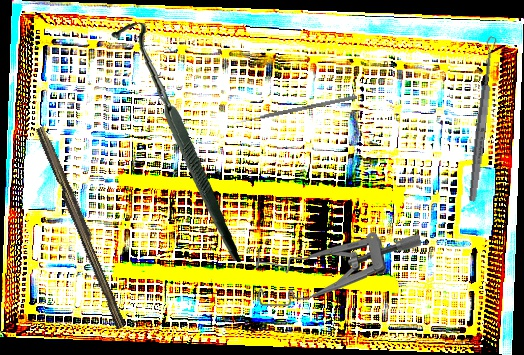Hook Surgical: (96, 21, 257, 262)
Pusher: (232, 94, 358, 126)
Scalpel Handle: (32, 124, 132, 330)
Speculum: (255, 231, 422, 308)
Surgical Spoon: (466, 35, 499, 203)
